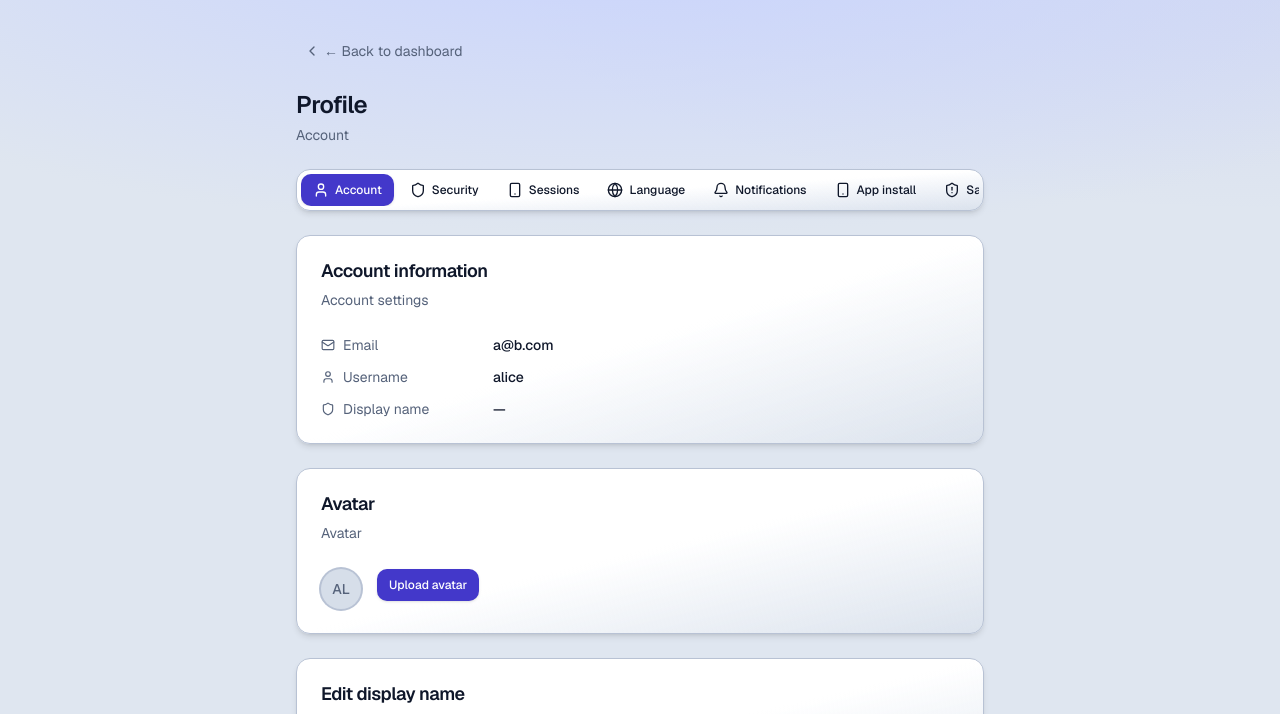
Test case: ProfilePage — authenticated › allows displayName update
Click the button "Account" at (347, 190), box top-left (301, 174), bottom-right (394, 206)
(page scrolled)
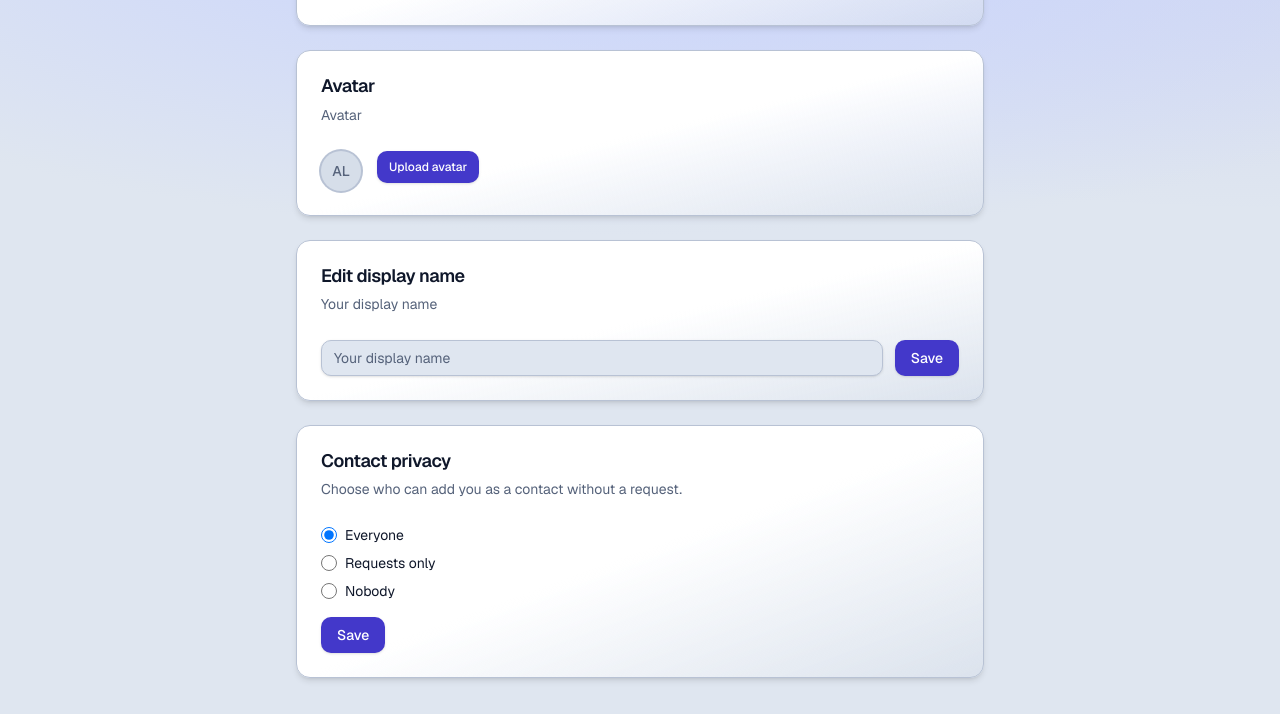
Type "Alice" into the field with placeholder "Your display name" at (602, 358), box top-left (321, 340), bottom-right (883, 376)
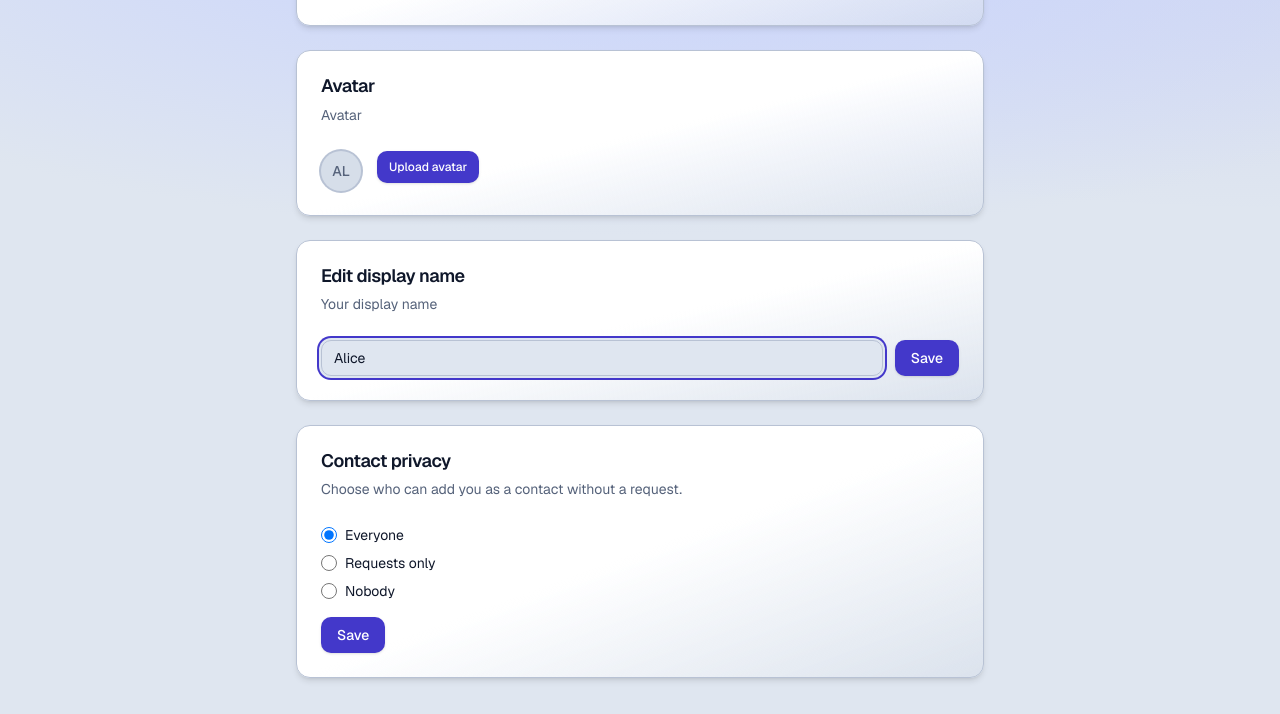
Click the button with test id "display-name-save" at (927, 358), box top-left (895, 340), bottom-right (959, 376)
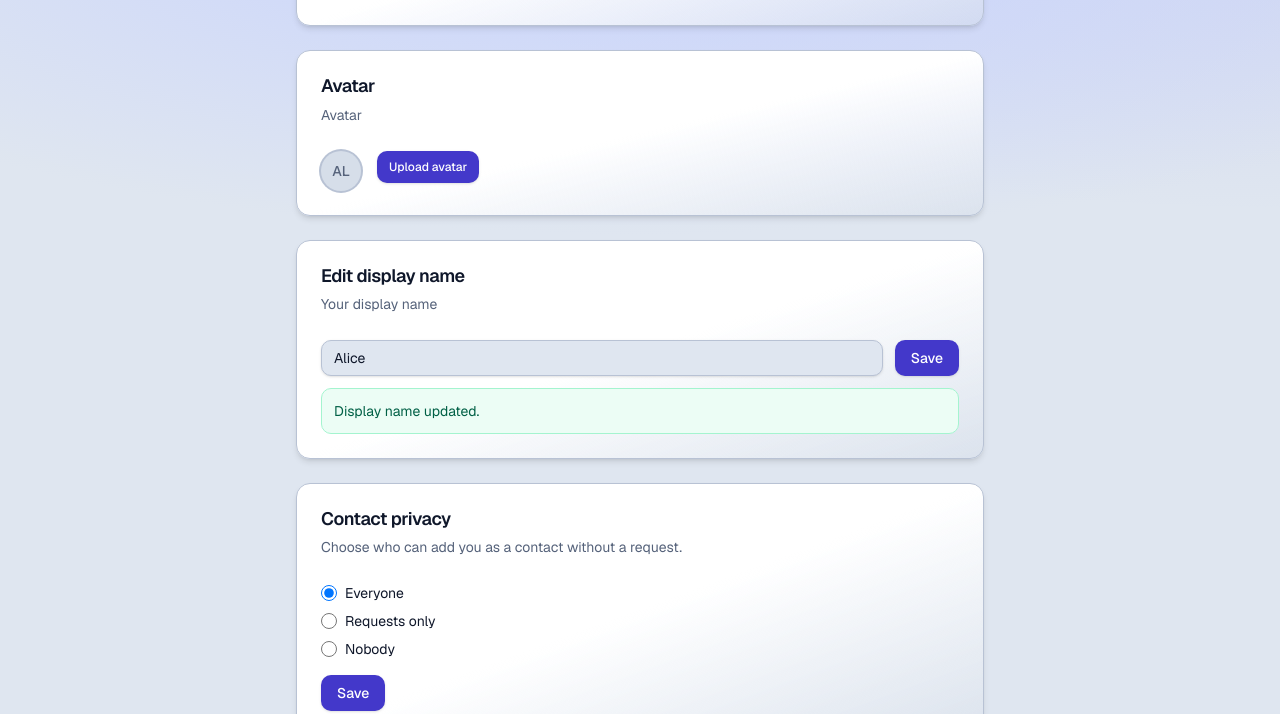
Check: the text "Display name updated." is shown, box top-left (321, 388), bottom-right (959, 434)
